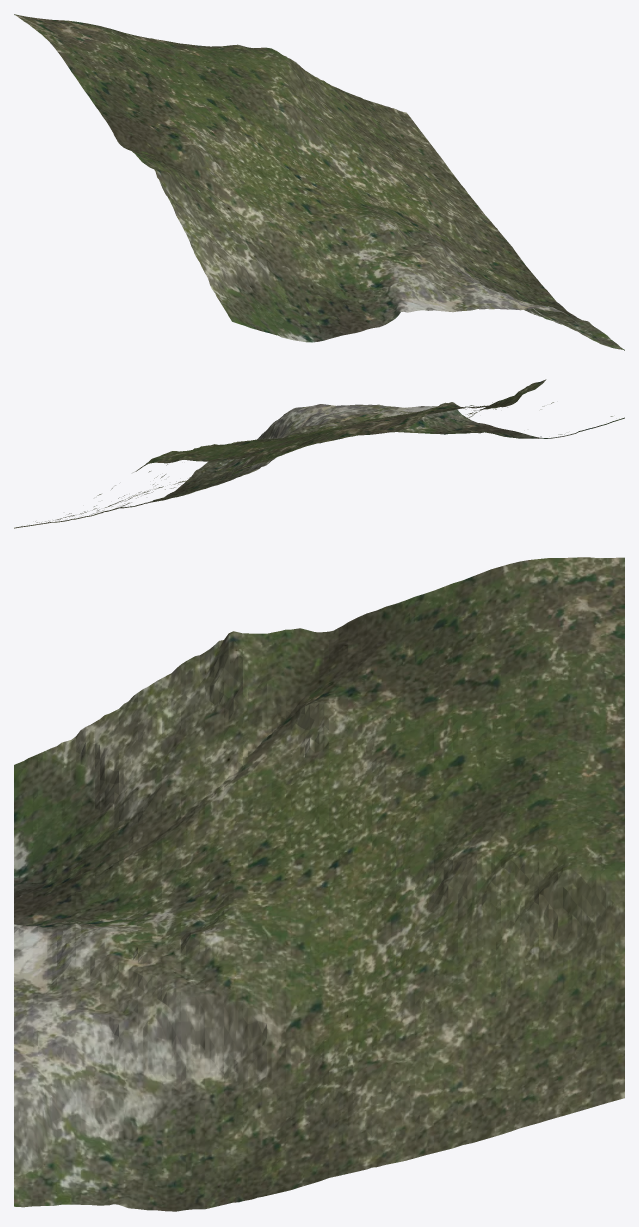
3 renders of one model, top to bottom at view 1: azimuth 30°, elevation 25°; view 2: azimuth 150°, elevation 25°; view 3: azimuth 270°, elevation 25°, orthographic. The views are drawn at different scales.
Size of the model in its own units: 500 by 337 by 481.
Materials: 1 (1 with a texture image).
